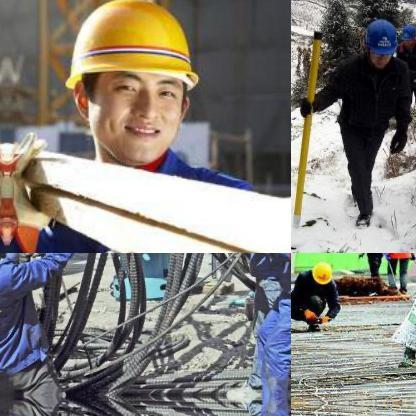Helmet: (44, 0, 214, 176), (360, 20, 394, 68), (309, 258, 333, 284), (397, 21, 415, 50)
